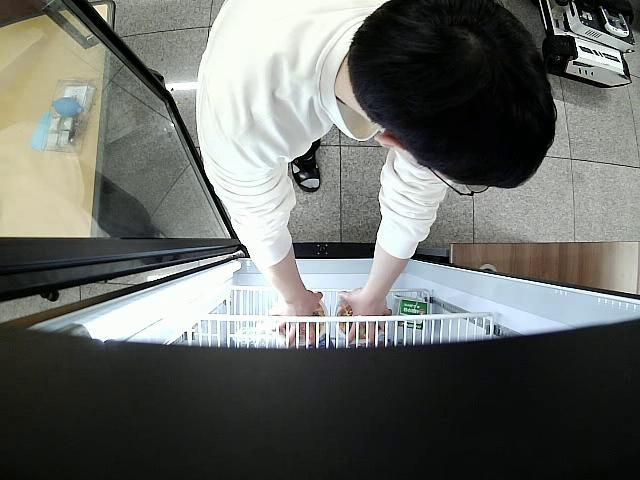09_yukGaeJang: (278, 297, 328, 341), (335, 302, 385, 342)
